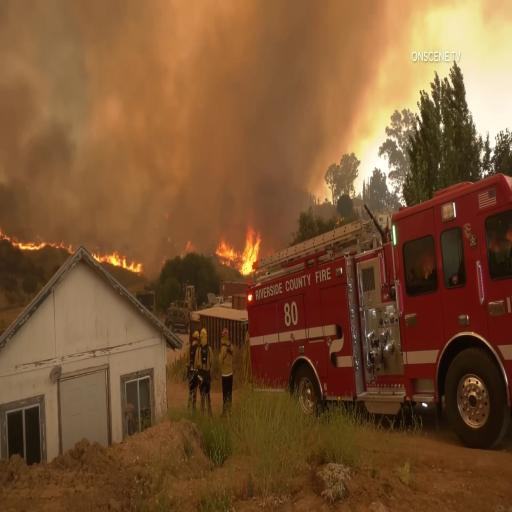fire: (218, 212, 261, 279)
